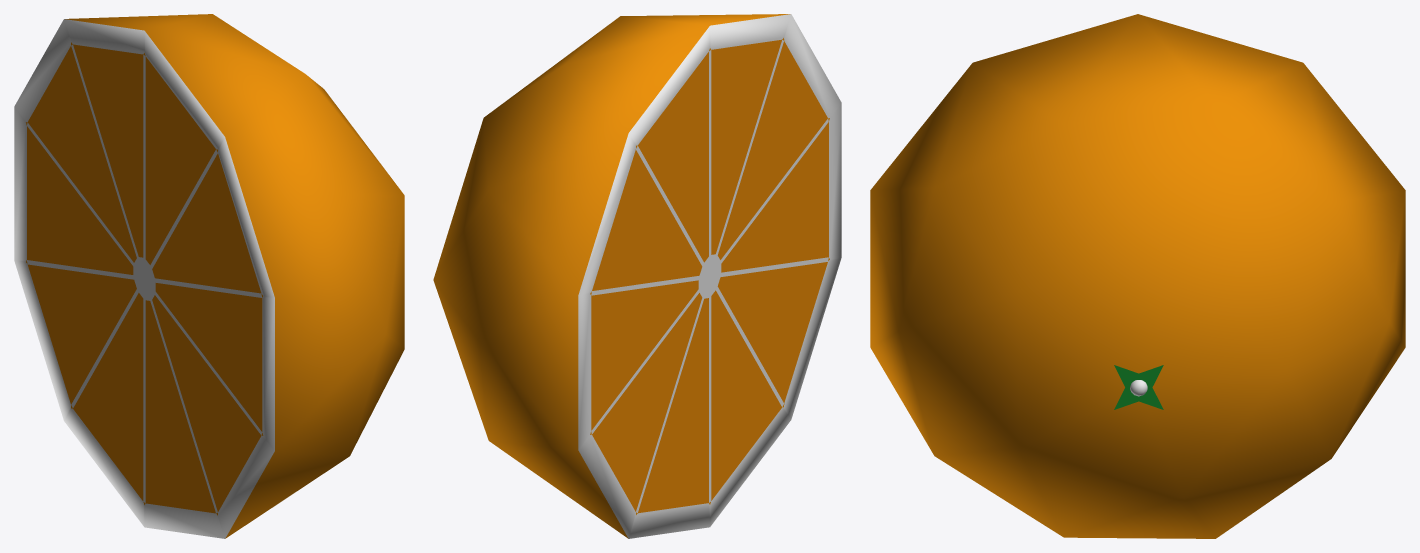
The model's file is scene_orange.gltf.
3 renders of one model, left to right at view 1: azimuth 30°, elevation 25°; view 2: azimuth 150°, elevation 25°; view 3: azimuth 270°, elevation 25°, orthographic. The views are drawn at different scales.
Visible parts, largest first — view 1: Icosphere; view 2: Icosphere; view 3: Icosphere, Plane.001.
Part boxes in pixels (x1=…): Icosphere: x1=14, y1=14, x2=404, y2=538; Icosphere: x1=433, y1=14, x2=841, y2=538; Icosphere: x1=870, y1=14, x2=1405, y2=538; Plane.001: x1=1114, y1=365, x2=1163, y2=409.
Size of the model in its own units: 1.02 by 2 by 1.9.
